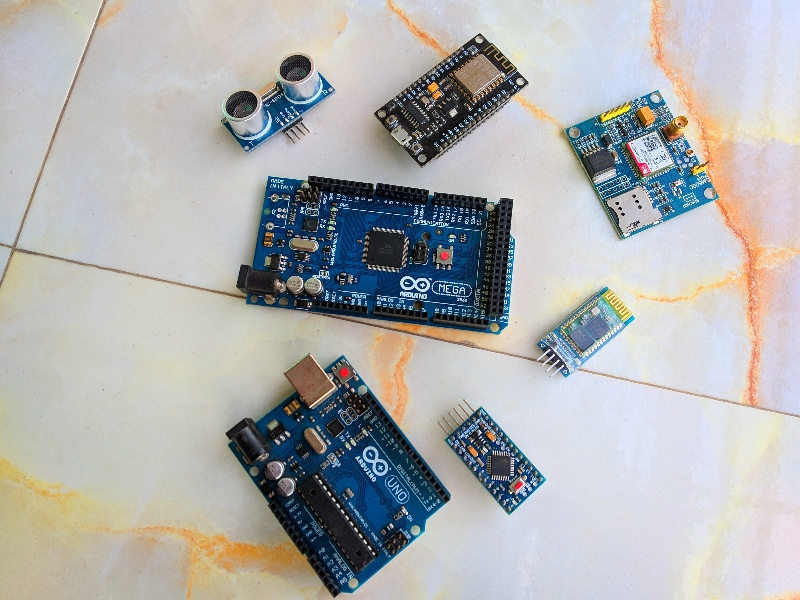Arduino Mega 2560: (231, 172, 522, 348)
Arduino Pro Mini: (440, 403, 559, 519)
Arduino UNO: (221, 351, 455, 600)
HC-05: (531, 281, 639, 381)
NodeMCU: (369, 29, 534, 170)
SIM800: (561, 85, 726, 246)
Sonar Sensor: (212, 48, 340, 158)
